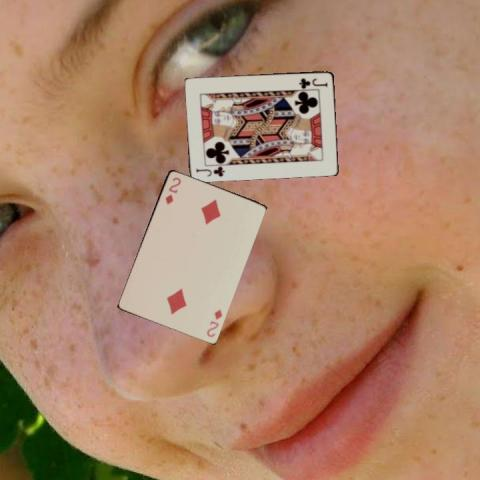2d: (204, 306, 223, 339), (162, 174, 182, 205)
Jc: (193, 163, 226, 178), (296, 75, 328, 88)
